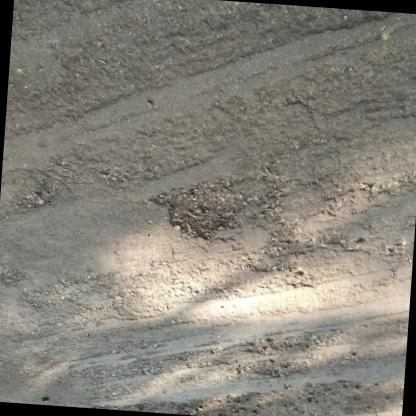pothole: (148, 176, 250, 245), (246, 333, 302, 359), (248, 358, 302, 381)
